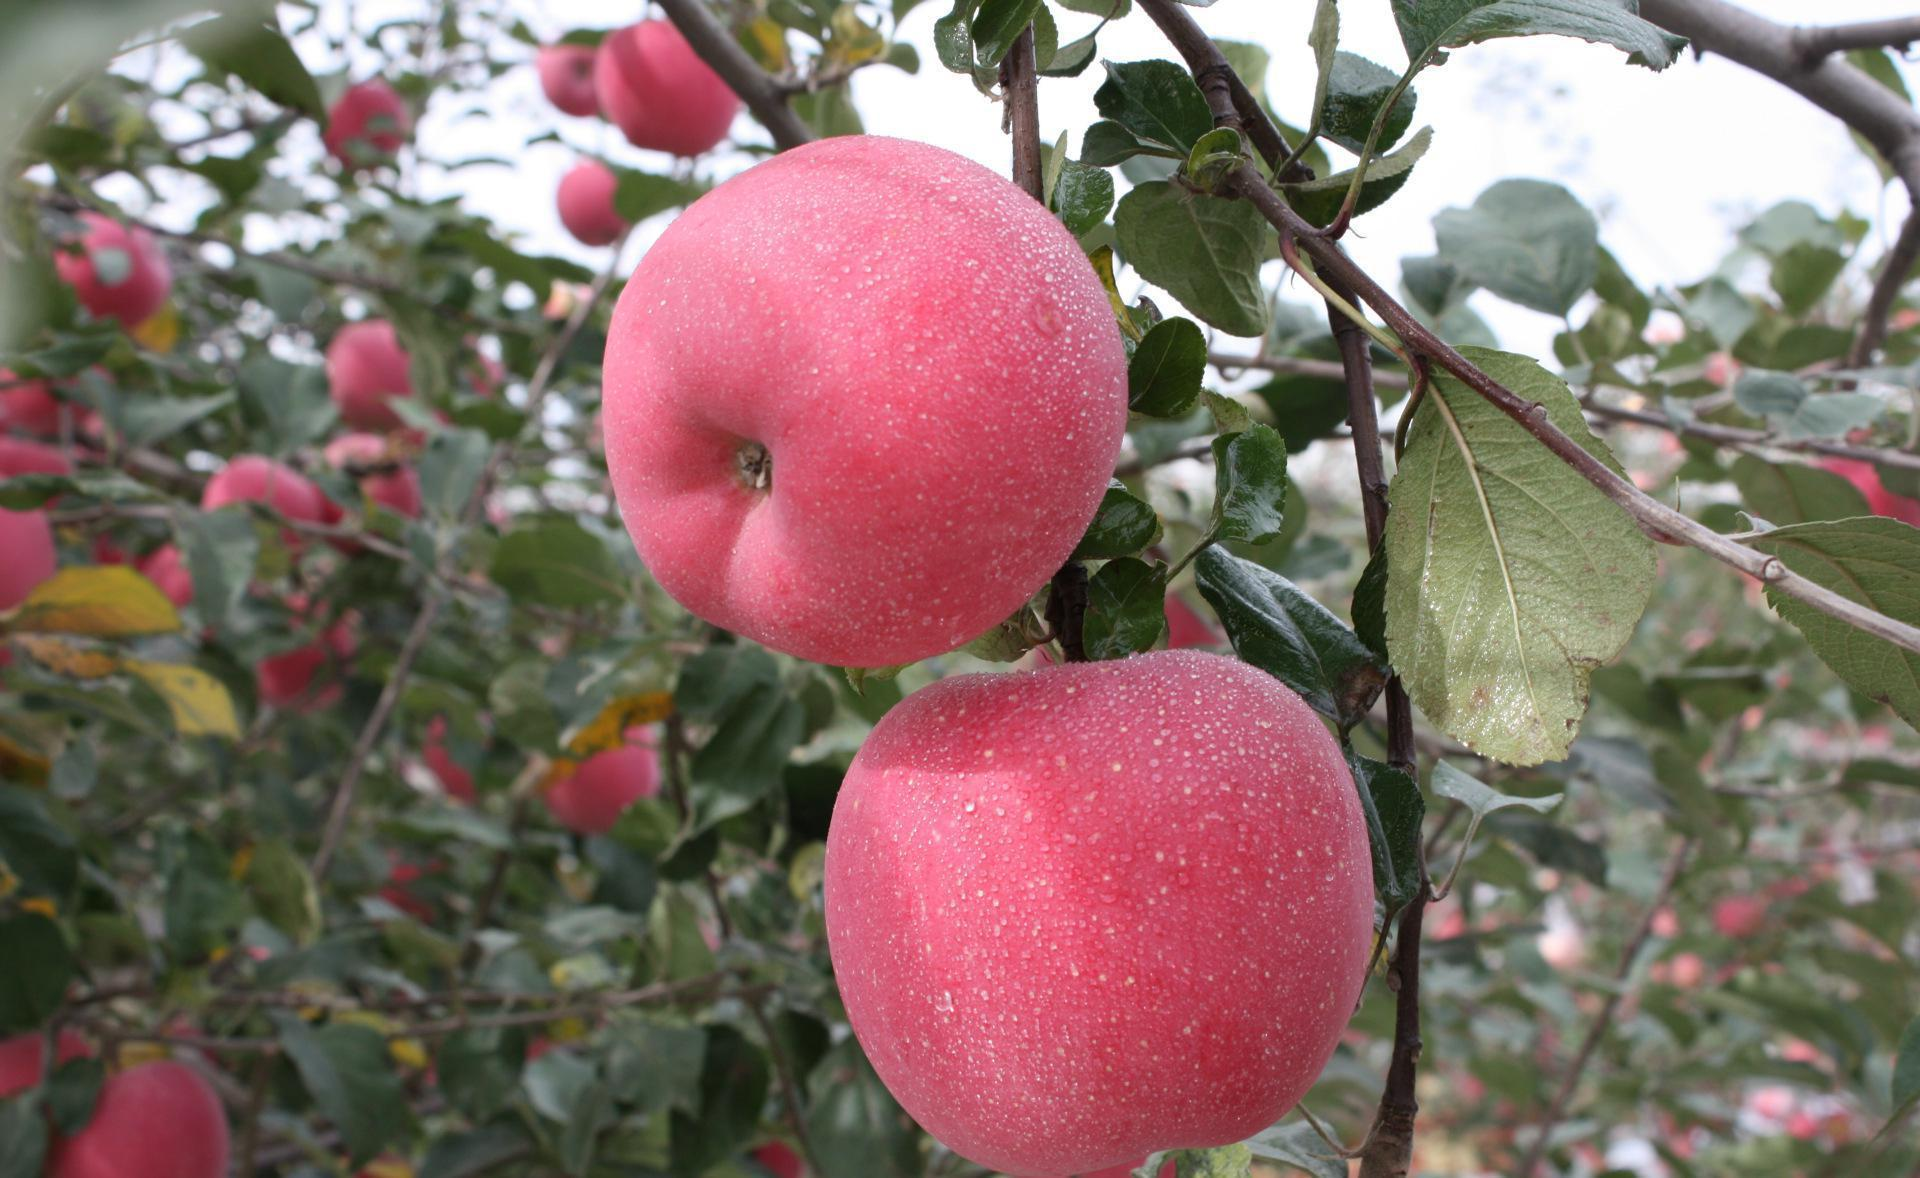apple: (809, 647, 1382, 1162), (598, 130, 1122, 664)
